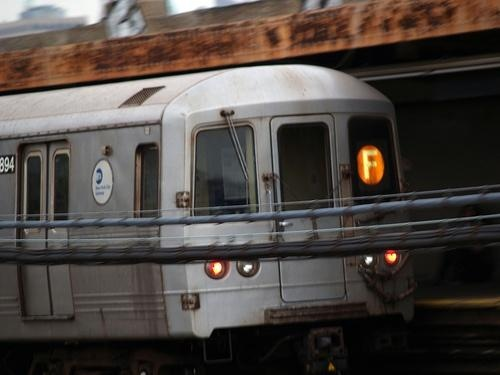train: (3, 60, 413, 374)
